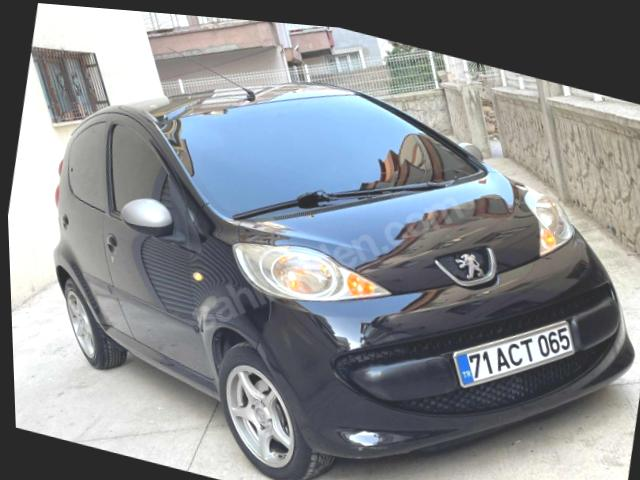plaka: (452, 320, 574, 387)
